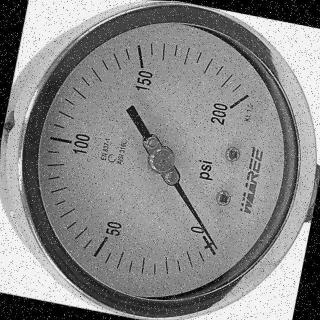gauge: (0, 0, 320, 320), (188, 226, 230, 266), (212, 90, 250, 122), (148, 145, 175, 174), (208, 238, 222, 252), (0, 0, 7, 1)
